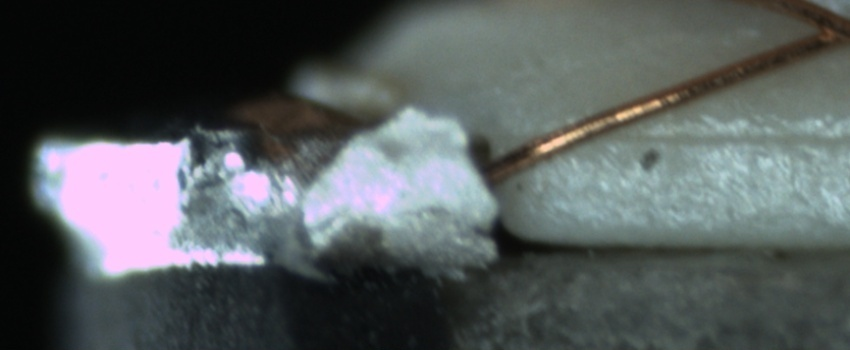CL: (790, 5, 850, 55)
DL: (606, 102, 846, 173)
